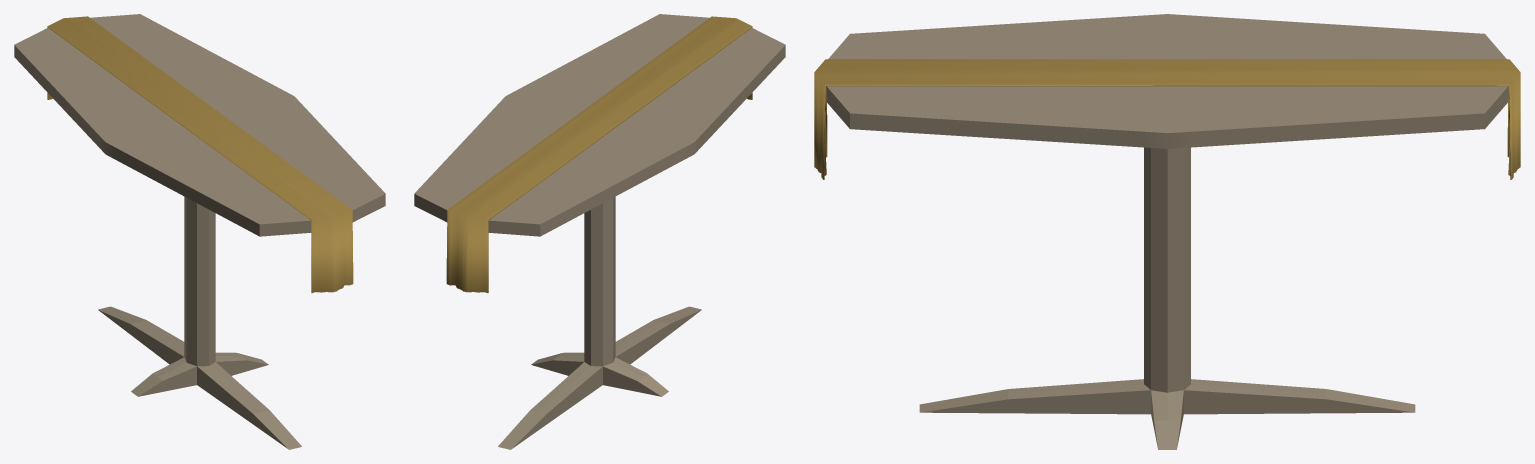
File: table_goldTableCloth.fbx
The picture shows the model from 3 angles, left to right: view 1: azimuth 30°, elevation 25°; view 2: azimuth 150°, elevation 25°; view 3: azimuth 270°, elevation 25°; orthographic projection. The views are drawn at different scales.
Visible parts, largest first — view 1: table, tableCloth; view 2: table, tableCloth; view 3: table, tableCloth.
Part boxes in pixels (x1,y1,x2,y2): table: [14, 14, 385, 449]; tableCloth: [47, 16, 353, 292]; table: [414, 14, 785, 449]; tableCloth: [446, 16, 752, 292]; table: [826, 14, 1508, 449]; tableCloth: [814, 59, 1520, 179].
Bounding box in the file's own units: 61.07 × 80.35 × 153.
